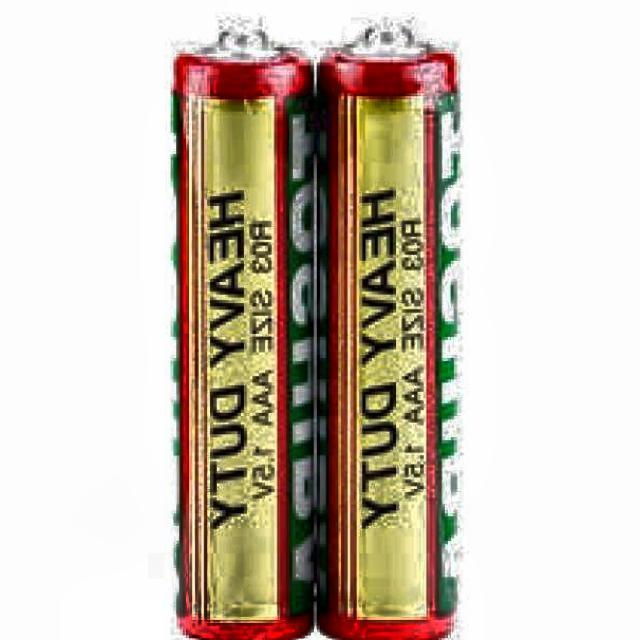battery: (174, 21, 317, 640), (320, 22, 457, 640)
